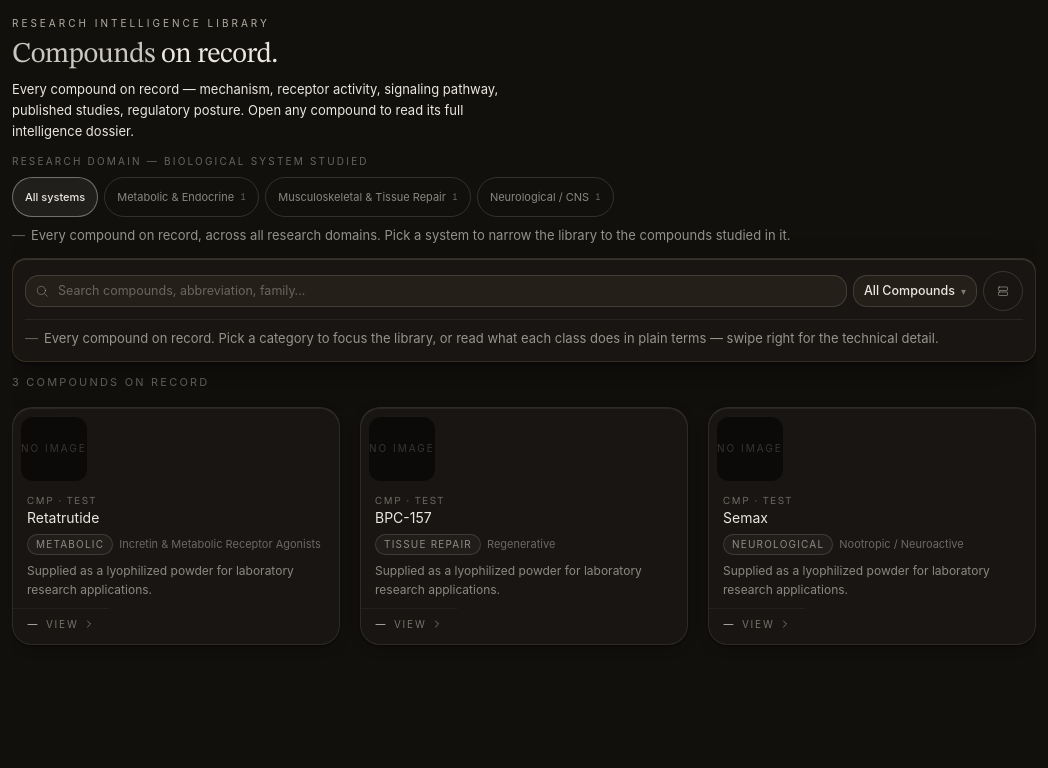
Scenario: biological-system filter on the research library › choosing a system narrows the library to that system
This screenshot has width=1048, height=768.
Click the button "Neurological / CNS 1": coordinates (546, 197) left=477, top=177, right=614, bottom=217
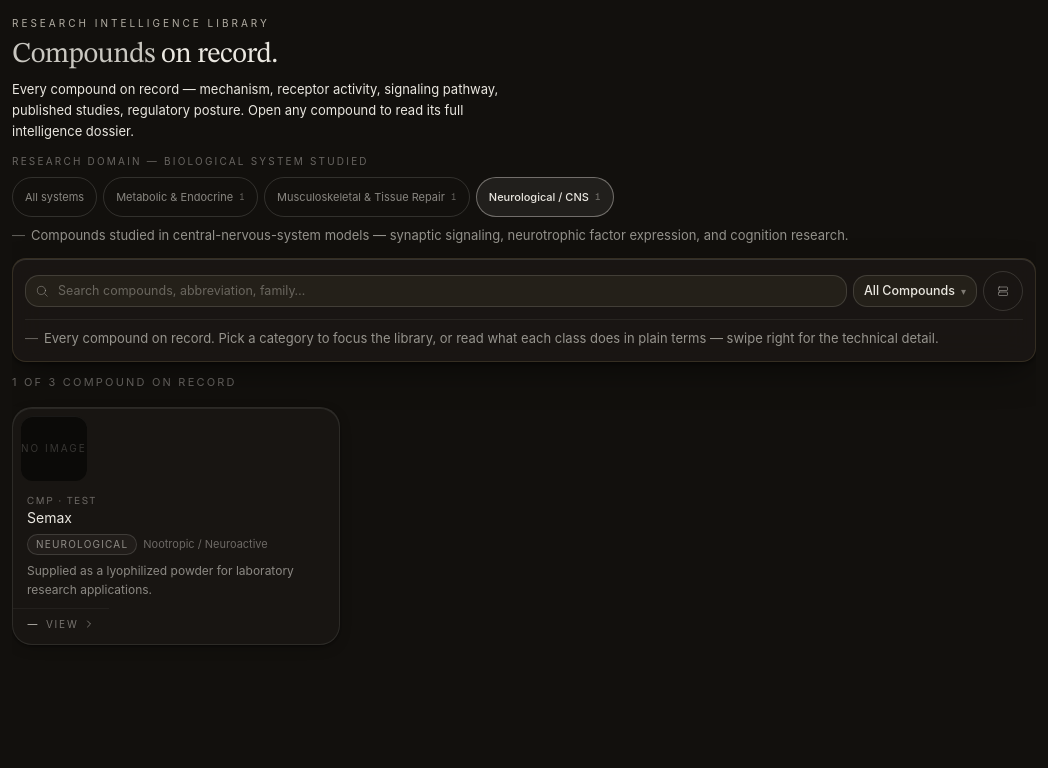
Expected: the heading "Semax" is shown, left=27, top=509, right=72, bottom=526
Now the button "Retatrutide" is gone
Now the button "BPC-157" is gone
